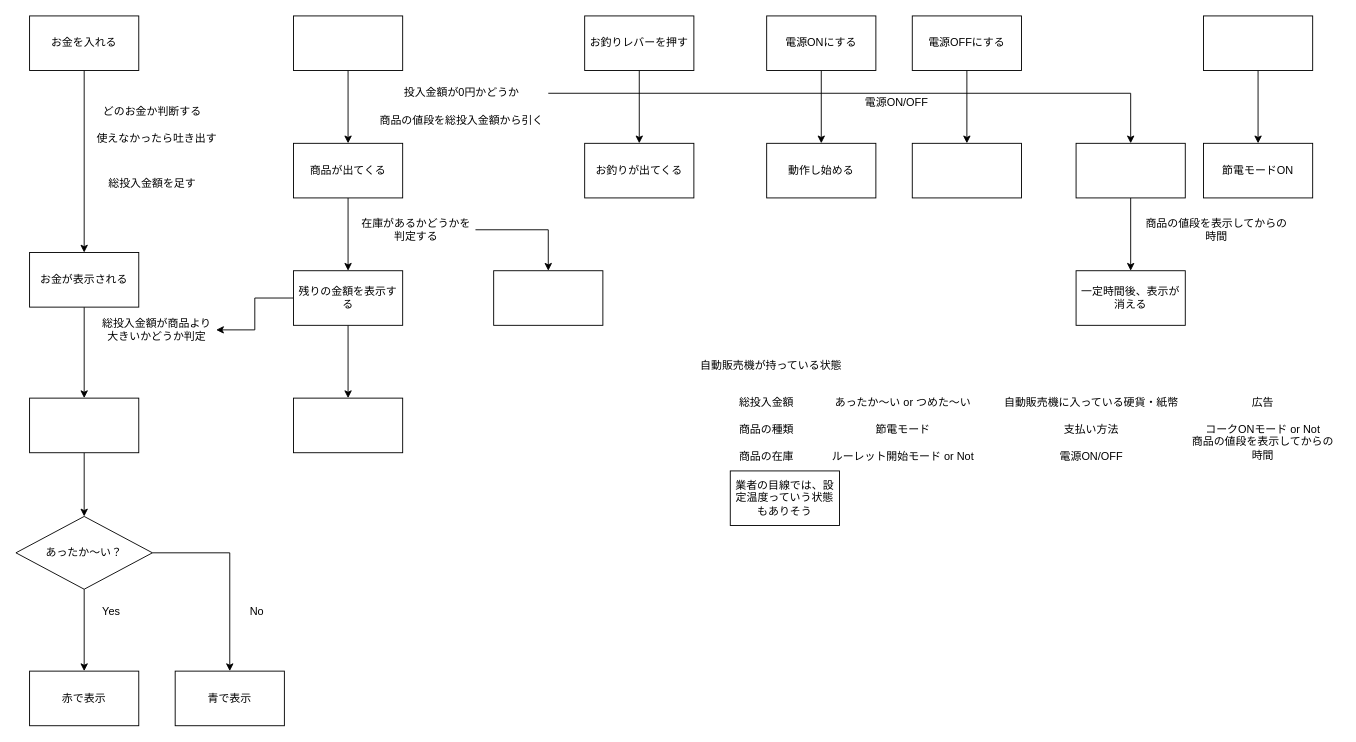
Image size: 1356x742. Some labels were removed from this diagram. Here are the shapes that lost their labels. From the top down, the centre of each, then its label:
point (348, 43): 買いたい商品を押す
point (1258, 43): ある時間帯になったら
point (966, 170): 動作が止まる
point (1130, 170): 支払いモードが変化して、電子決済モードになる
point (548, 297): 「売り切れ」と表示する
point (84, 425): 買える商品のランプが点灯する
point (348, 425): ルーレットスタート
